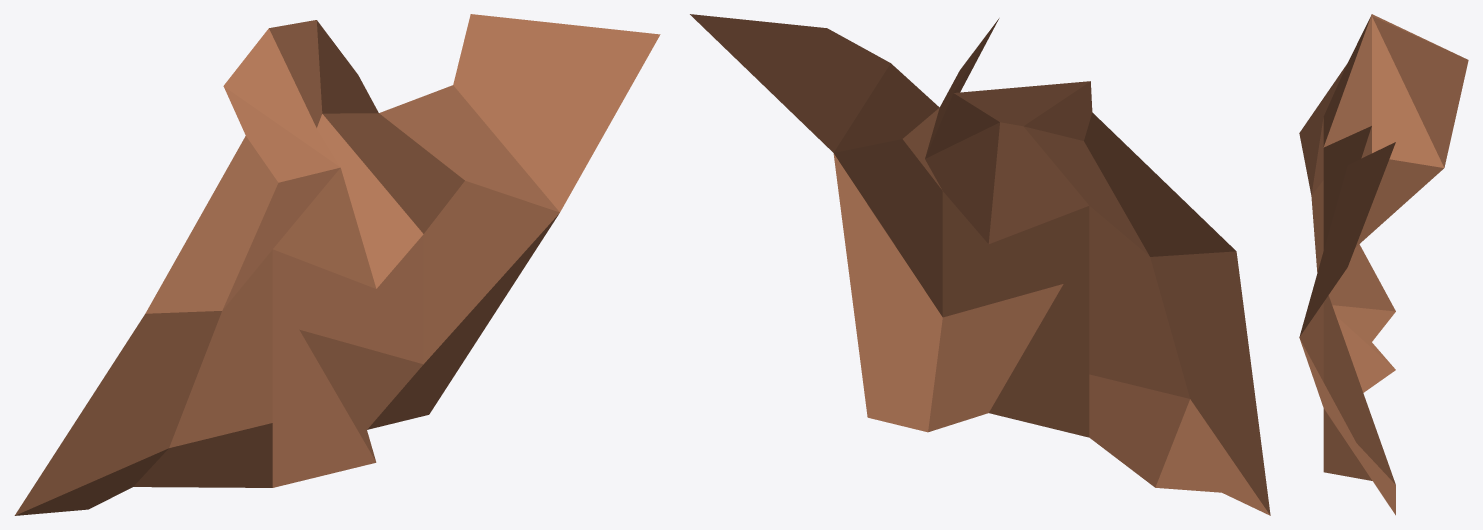
The model's file is Edge Bottom Interior E.fbx.
The picture shows the model from 3 angles, left to right: view 1: azimuth 30°, elevation 25°; view 2: azimuth 150°, elevation 25°; view 3: azimuth 270°, elevation 25°; orthographic projection. The views are drawn at different scales.
Visible parts, largest first — view 1: Edge Bottom Interior E; view 2: Edge Bottom Interior E; view 3: Edge Bottom Interior E.
Boxes of the visible parts, bbox=[...] form: Edge Bottom Interior E: bbox=[14, 14, 660, 515]; Edge Bottom Interior E: bbox=[690, 14, 1270, 515]; Edge Bottom Interior E: bbox=[1299, 14, 1468, 515].
Size of the model in its own units: 75 by 50 by 17.5.
